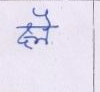e_matra: (33, 8, 54, 25)
